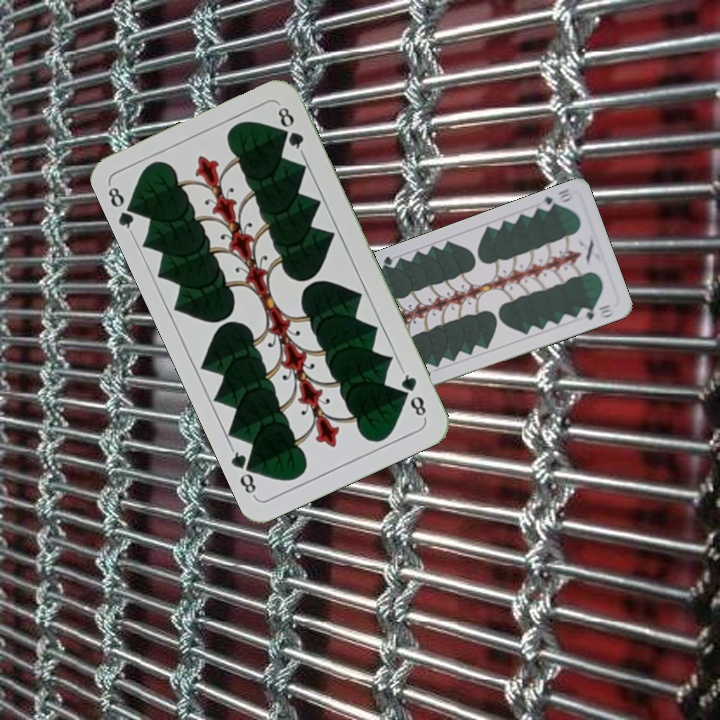G10: (538, 184, 575, 214)
G8: (103, 181, 142, 237), (396, 366, 429, 421)
